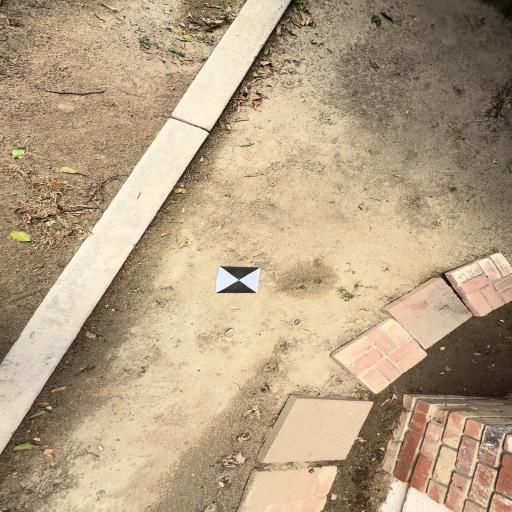target: (215, 266, 261, 293)
